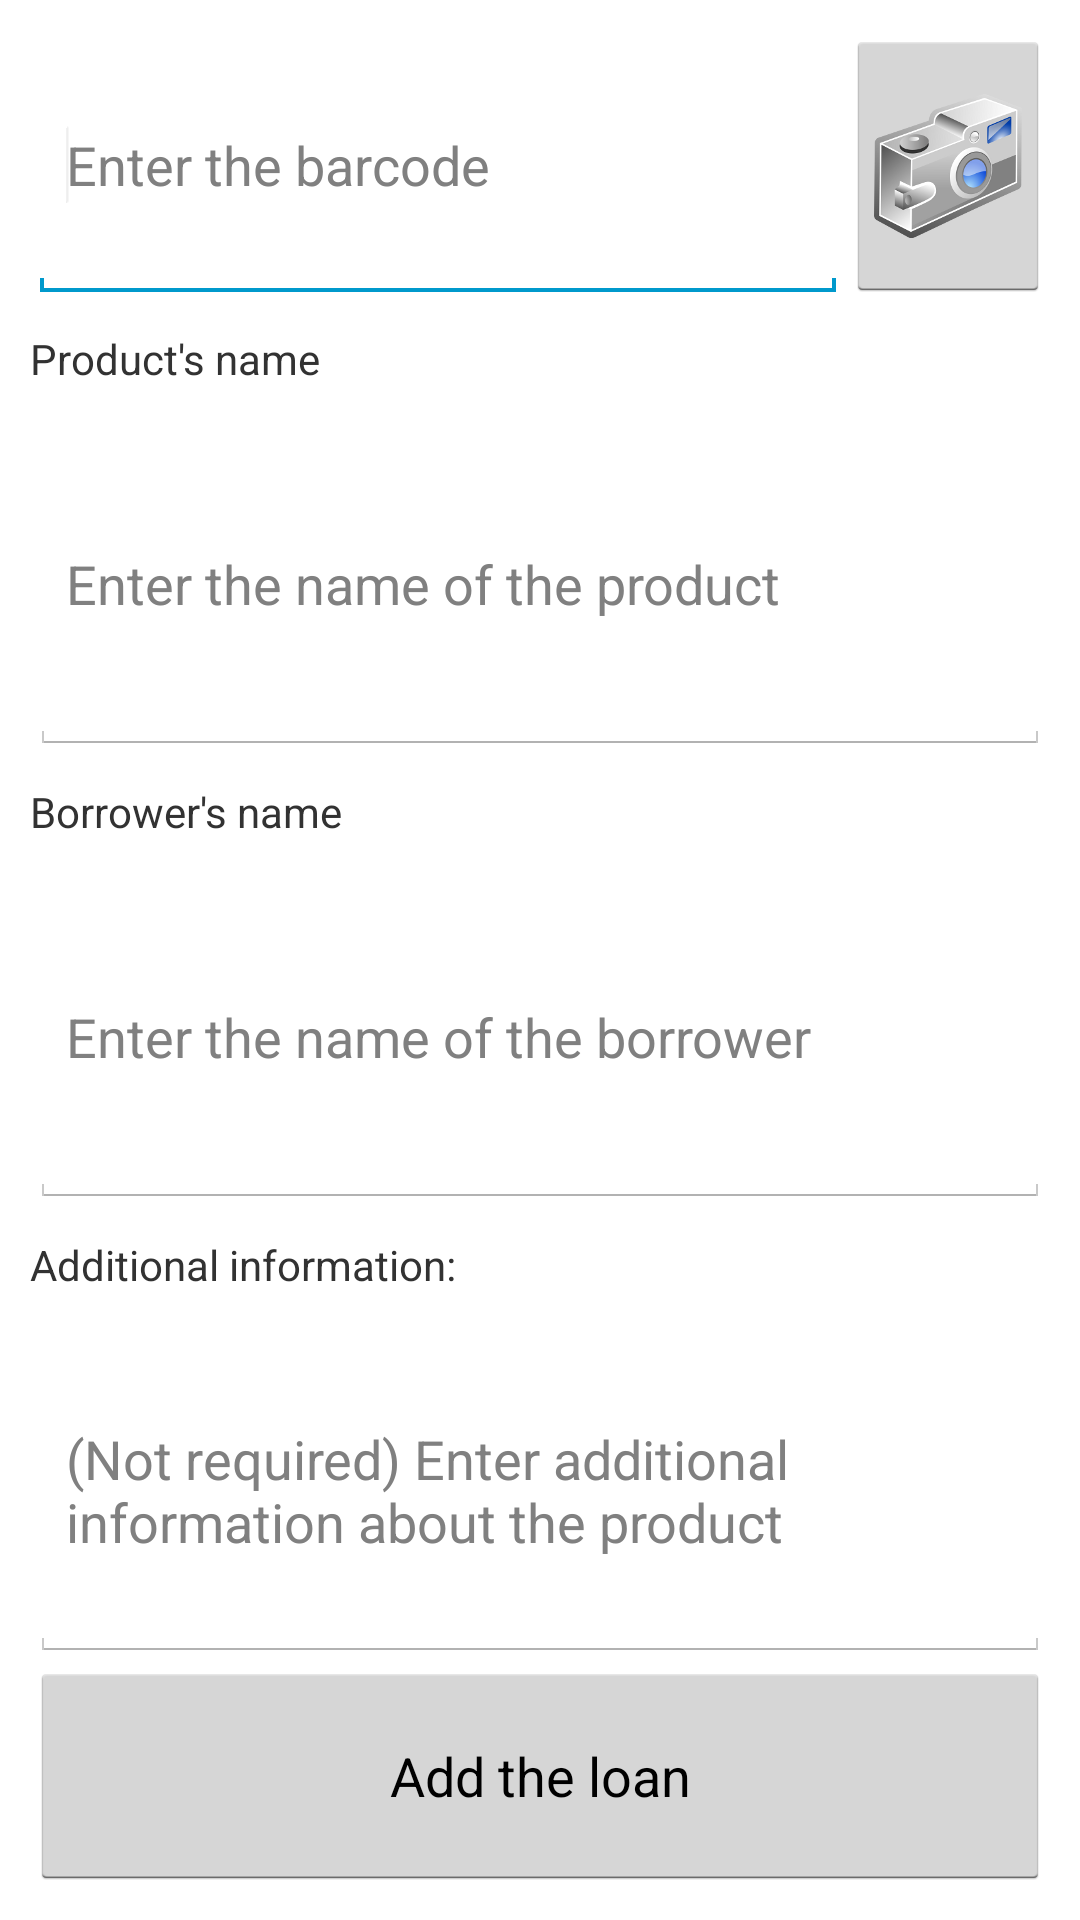

Named icons in this screenshot (1080 x 1920) and their centers, [x,y]:
camera: [948,167]
